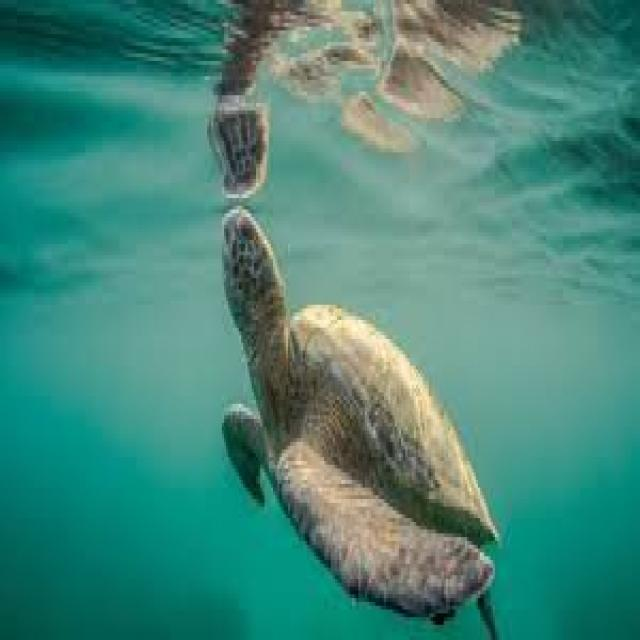turtle: (210, 200, 491, 638)
